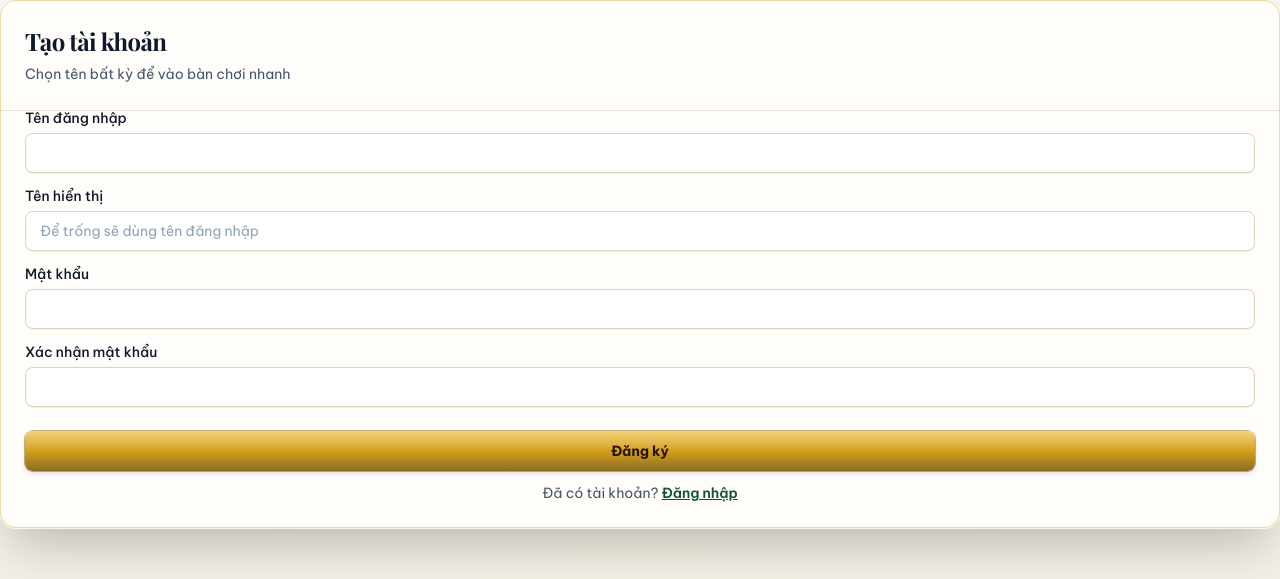
Test case: RegisterPage › shows the success state when sign-up succeeds
In the field labelled "Tên đăng nhập": (640, 153) [25,133,1255,173], type "An Nguyễn"
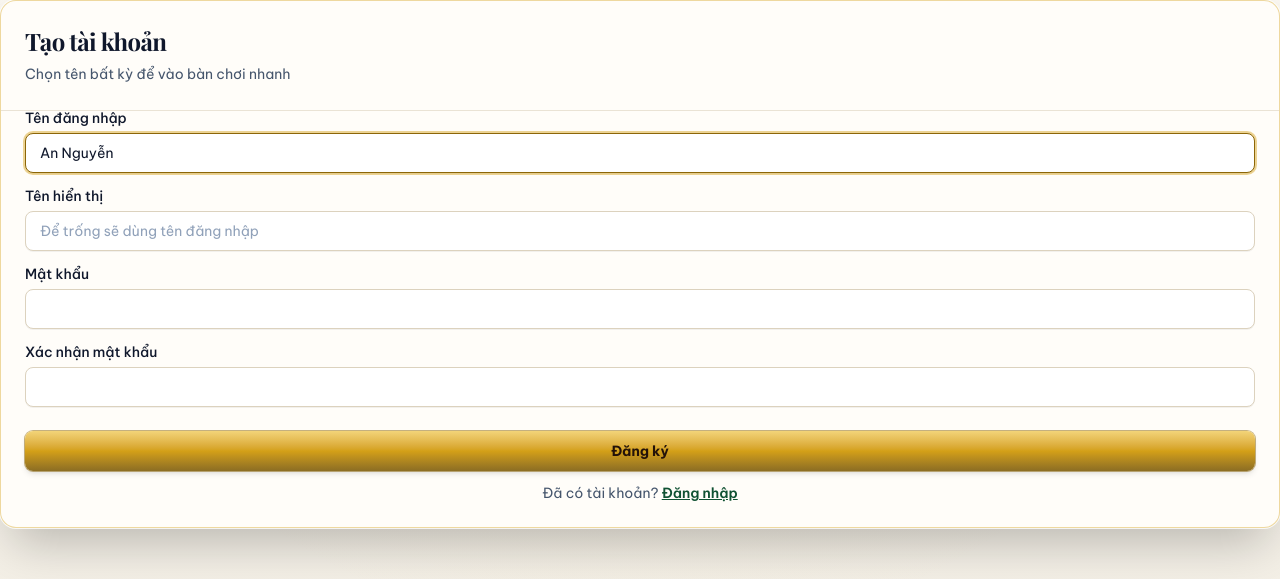
In the field labelled "Tên hiển thị": (640, 231) [25,211,1255,251], type "An"
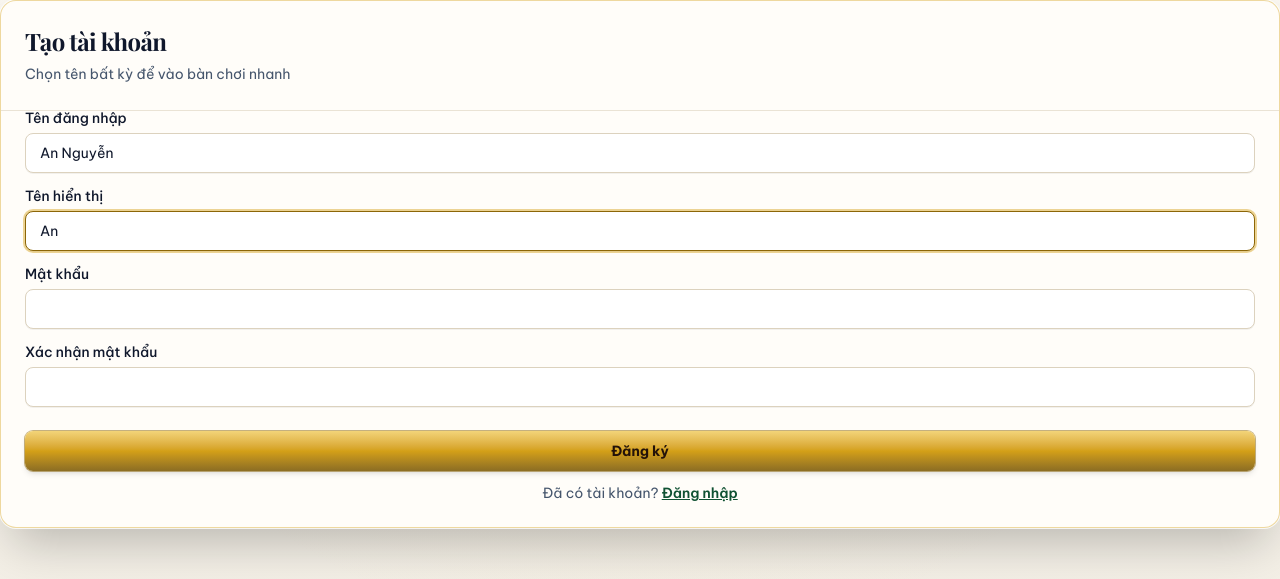
In the password field labelled "Mật khẩu": (640, 309) [25,289,1255,329], type "secret123"
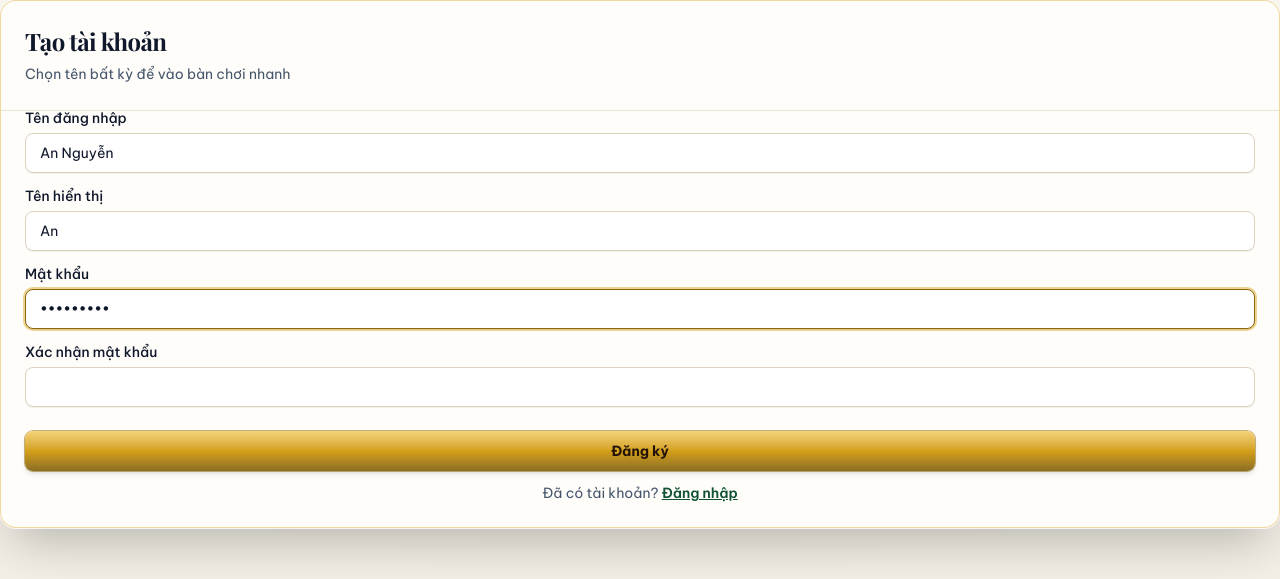
In the password field labelled "Xác nhận mật khẩu": (640, 387) [25,367,1255,407], type "secret123"
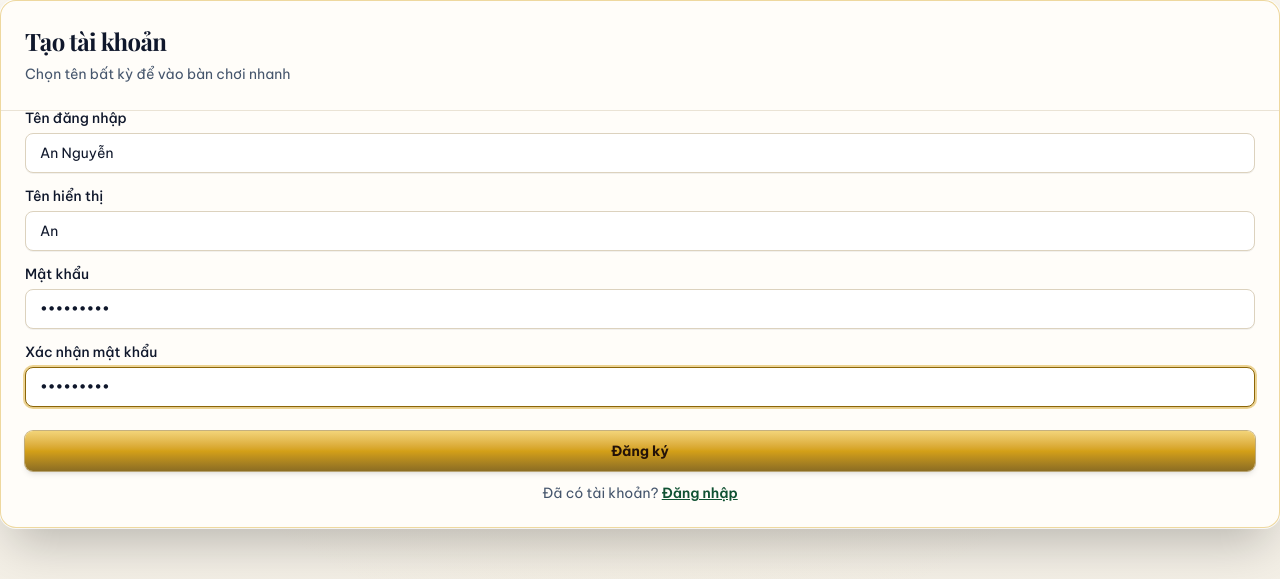
Click the button "Đăng ký": (640, 451) [25,431,1255,471]
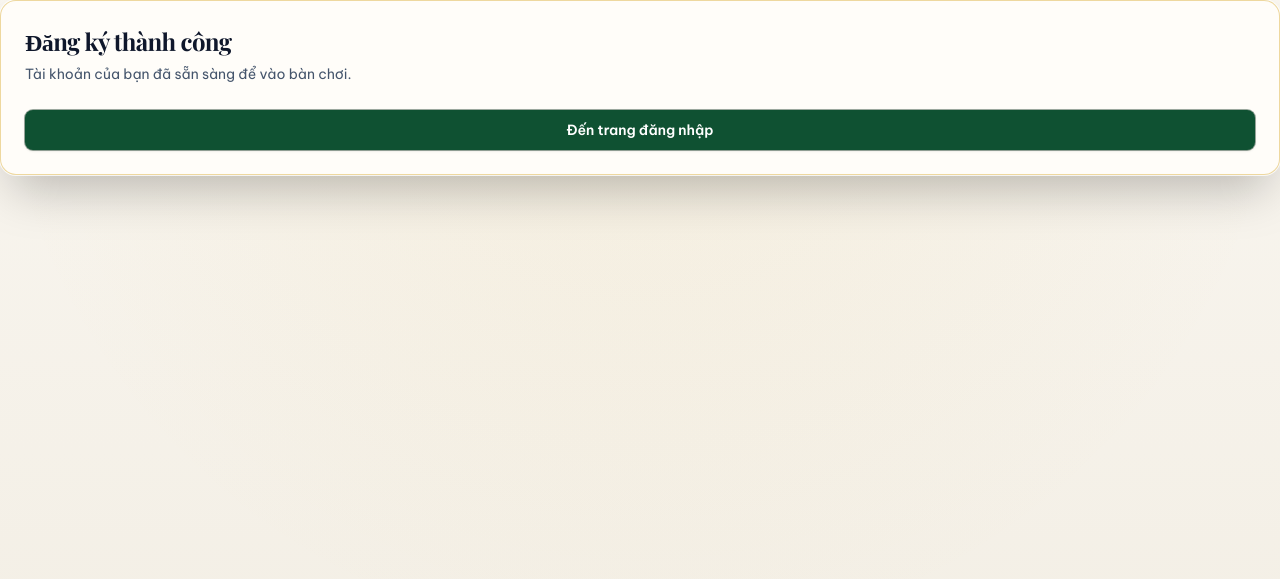
Result: the heading "Đăng ký thành công" is shown at [25,25,232,57]
